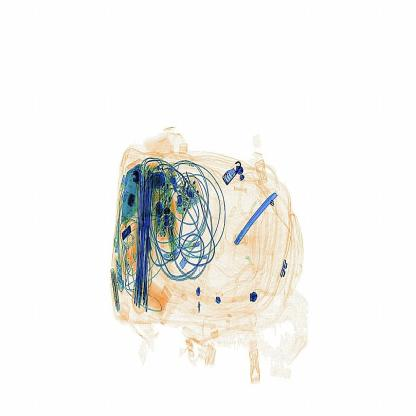pliers: (225, 180, 288, 251)
